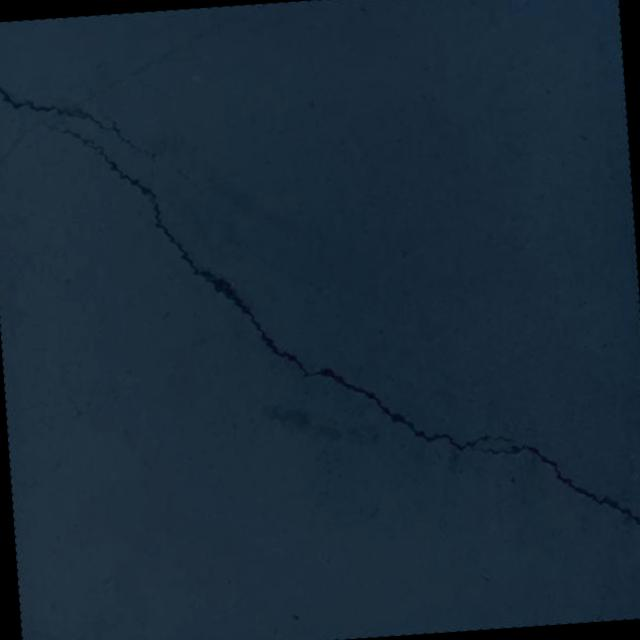crack: (37, 76, 640, 585), (0, 51, 205, 212)
